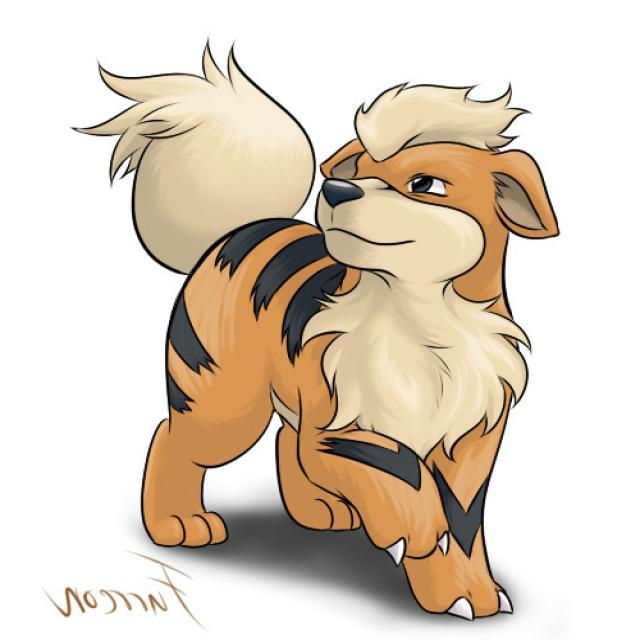Growlithe: (103, 26, 545, 585)
